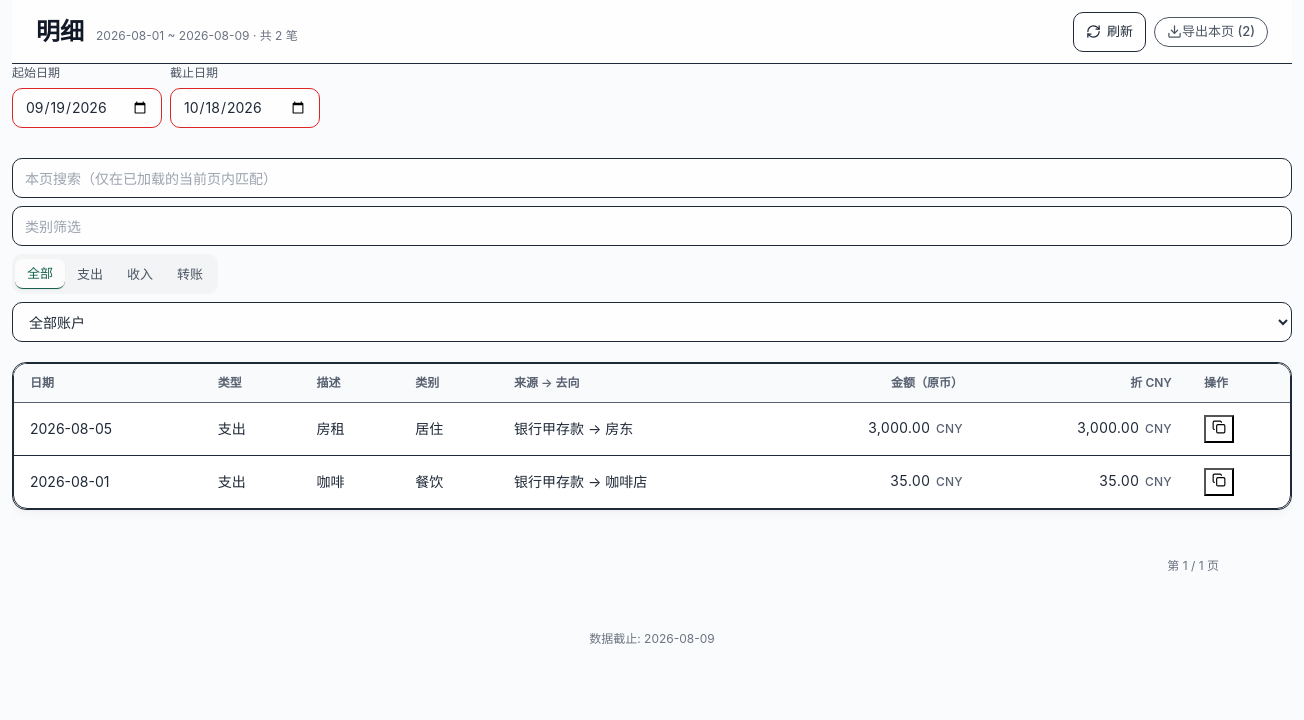
Test: TransactionsPage › 复制飞书核对指令：剪贴板写入含 journal_id 的精确指令并显示 toast
This screenshot has width=1304, height=720.
Expected: the table named "交易明细" is shown, [14, 364, 1290, 508]
Click the button named "复制交易 咖啡 核对指令" at (1219, 482), box [1204, 468, 1234, 496]
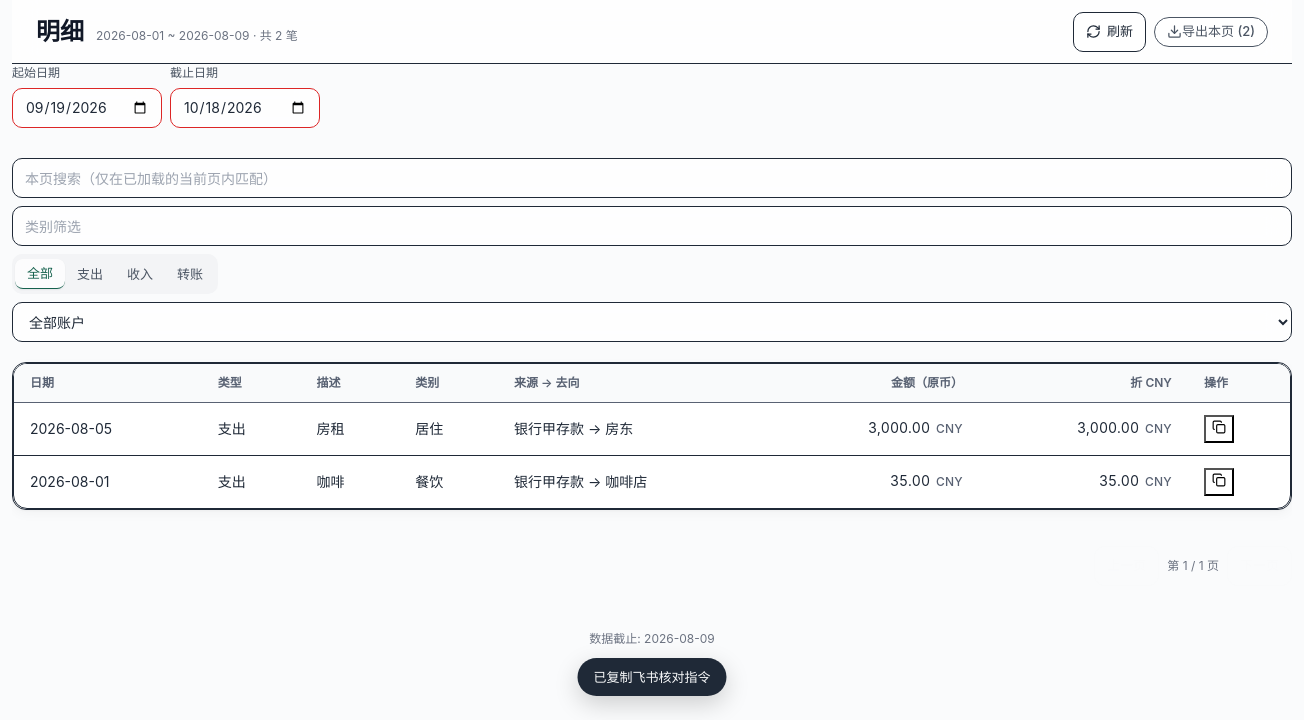
Expected: the text "已复制飞书核对指令" is shown, [578, 658, 726, 696]
